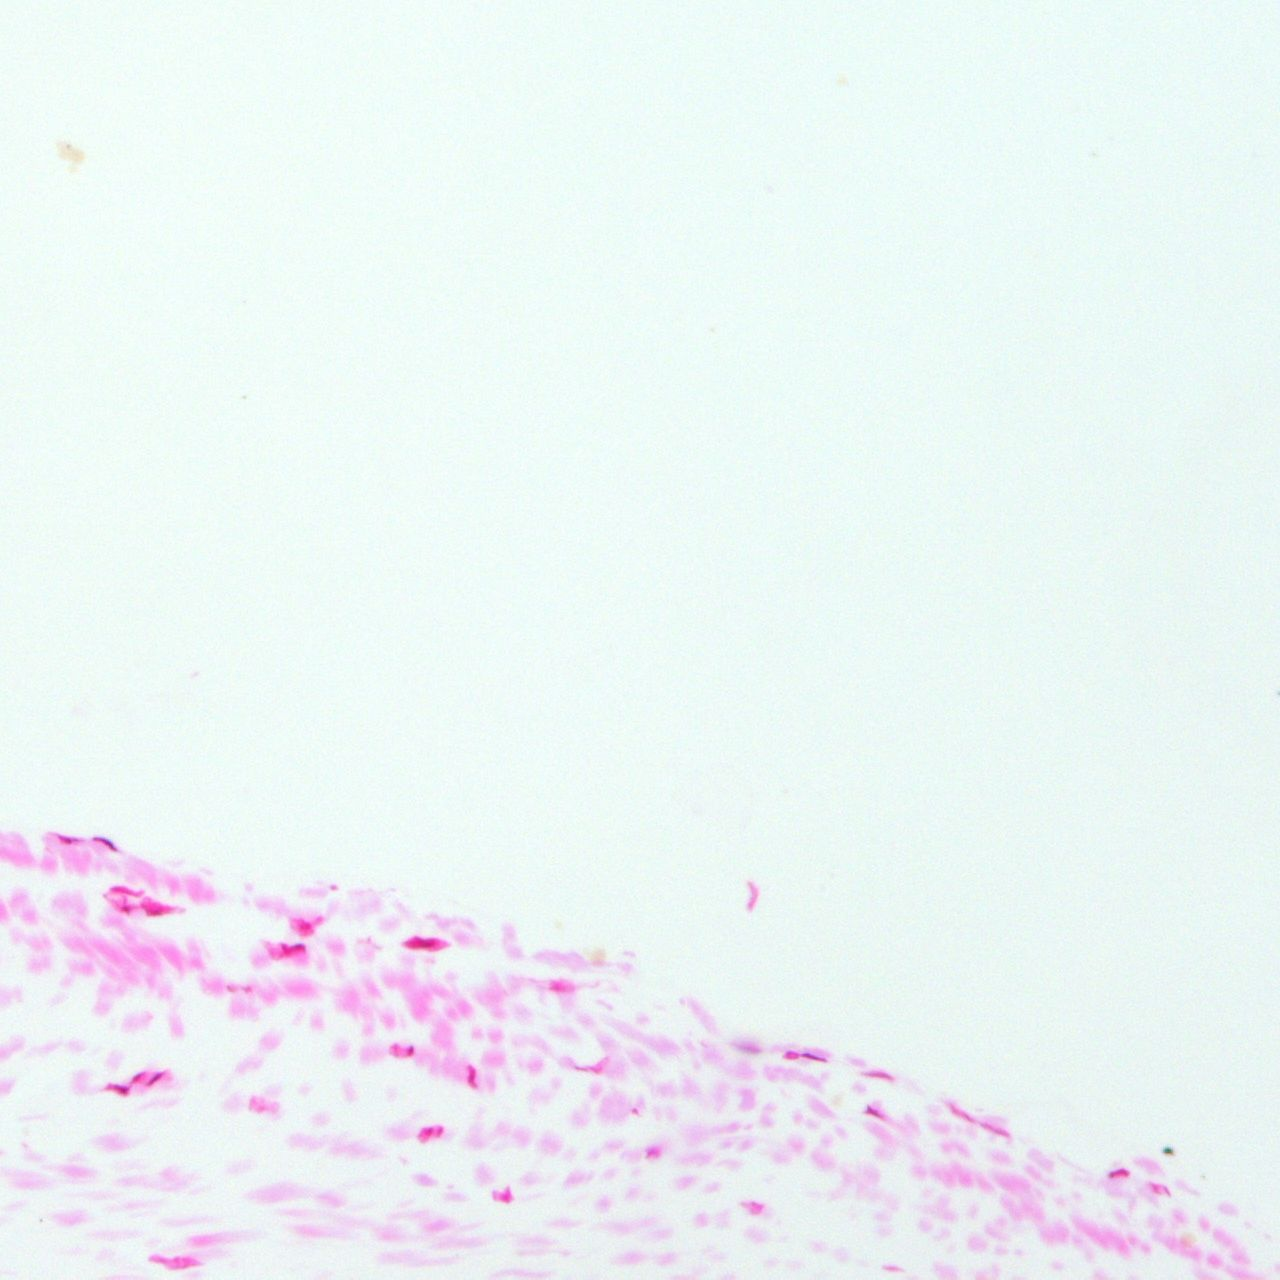dust: (1162, 1147, 1172, 1155)
nucleus-FG: (416, 1121, 446, 1143), (405, 936, 446, 950), (278, 942, 309, 957), (92, 834, 117, 850), (106, 1080, 129, 1097), (864, 1105, 885, 1122), (465, 1065, 479, 1090), (800, 1051, 828, 1062), (146, 1070, 163, 1087), (1109, 1167, 1129, 1178), (129, 1071, 144, 1085), (144, 907, 165, 917), (117, 902, 130, 914), (58, 835, 71, 844), (406, 1043, 413, 1058)
